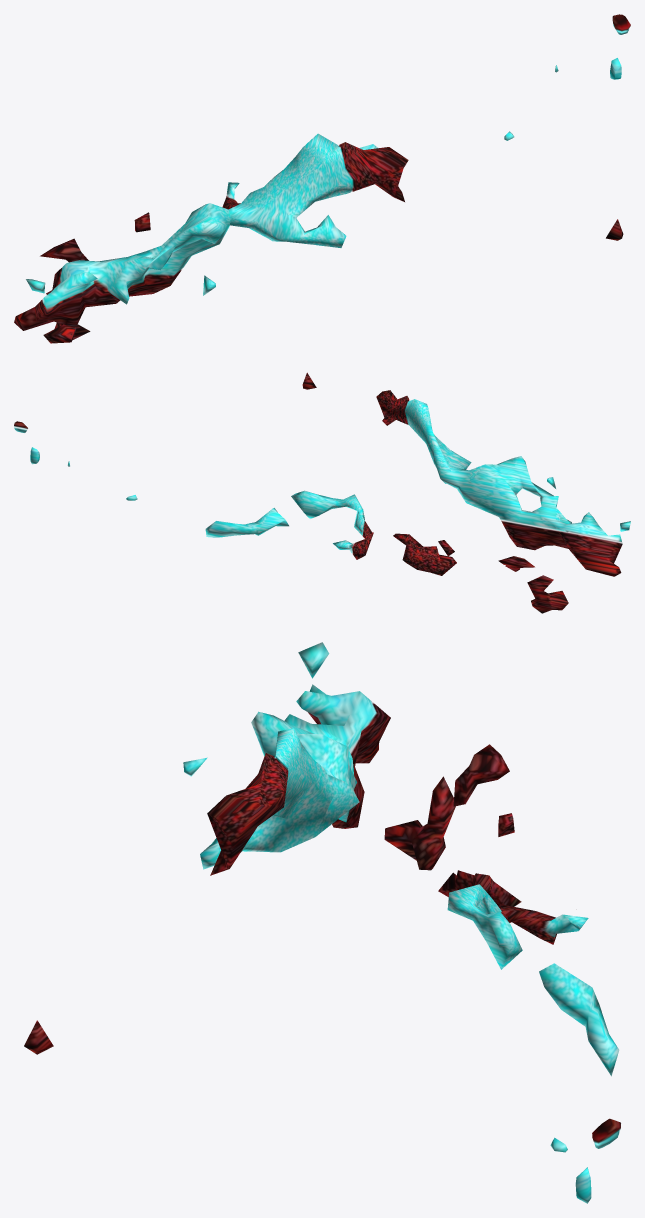
3 views of the same model, one above another, from view 1: azimuth 30°, elevation 25°; view 2: azimuth 150°, elevation 25°; view 3: azimuth 270°, elevation 25° (orthographic). The views are drawn at different scales.
Visible parts, largest first — view 1: SM_Splash_Directional_Light_LOD0; view 2: SM_Splash_Directional_Light_LOD0; view 3: SM_Splash_Directional_Light_LOD0.
Part boxes in pixels (x1,y1,x2,y2): SM_Splash_Directional_Light_LOD0: (14, 14, 630, 343); SM_Splash_Directional_Light_LOD0: (14, 372, 630, 613); SM_Splash_Directional_Light_LOD0: (24, 642, 620, 1203).
Bounding box in the file's own units: 0.2906 × 0.0764 × 0.1379.
Materials: 1 (1 with a texture image).
